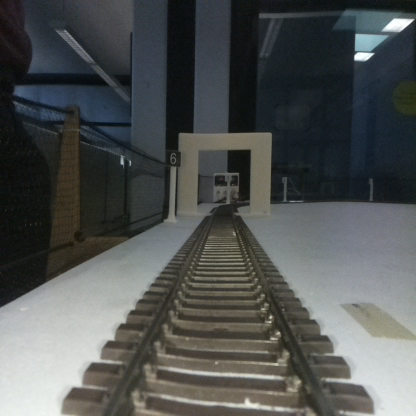black-info-6: (165, 152, 181, 222)
